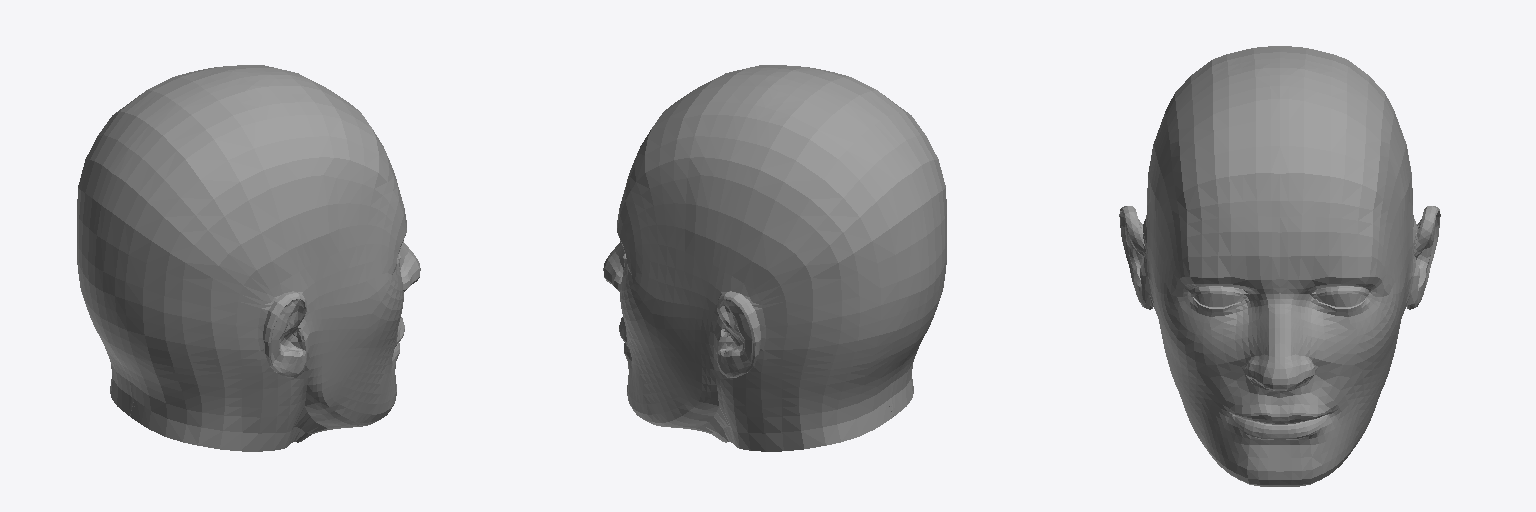
File: head2.obj
3 renders of one model, left to right at view 1: azimuth 30°, elevation 25°; view 2: azimuth 150°, elevation 25°; view 3: azimuth 270°, elevation 25°, orthographic.
Visible parts, largest first — view 1: object0; view 2: object0; view 3: object0.
Part boxes in pixels (bbox=[...]): object0: bbox=[77, 65, 420, 451]; object0: bbox=[603, 65, 946, 451]; object0: bbox=[1119, 46, 1440, 486].
Bounding box in the file's own units: 0.027 × 0.029 × 0.0233.